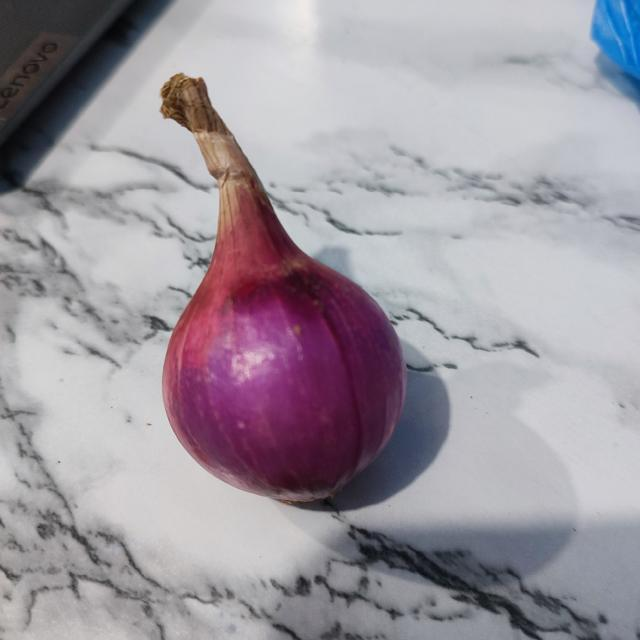Onion: (161, 73, 406, 502)
